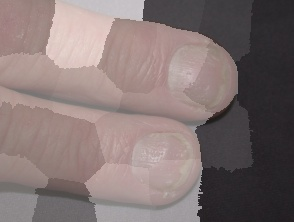Nail_psoriasis: (104, 103, 220, 217), (153, 27, 247, 126)
